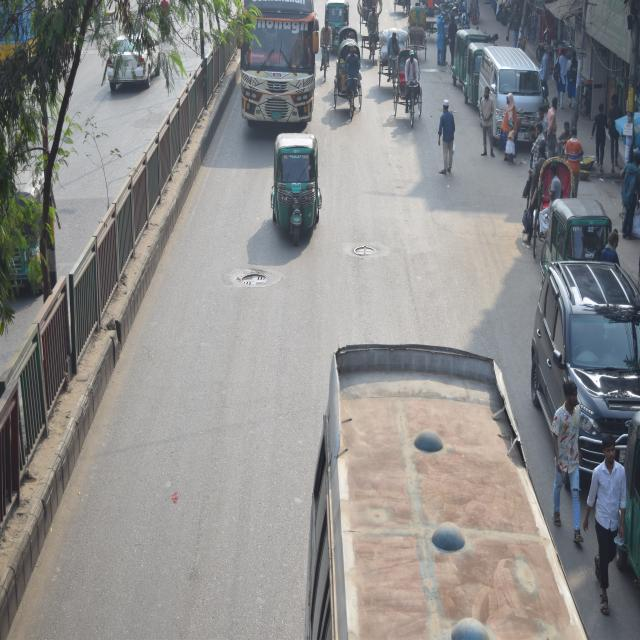bus: (321, 331, 566, 640), (225, 0, 314, 116)
car: (534, 263, 640, 490), (107, 22, 162, 92)
microbus: (469, 39, 538, 140)
